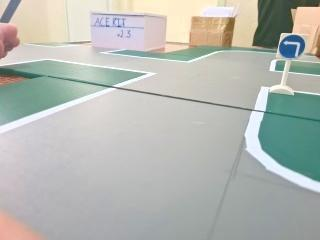left: (273, 29, 310, 63)
